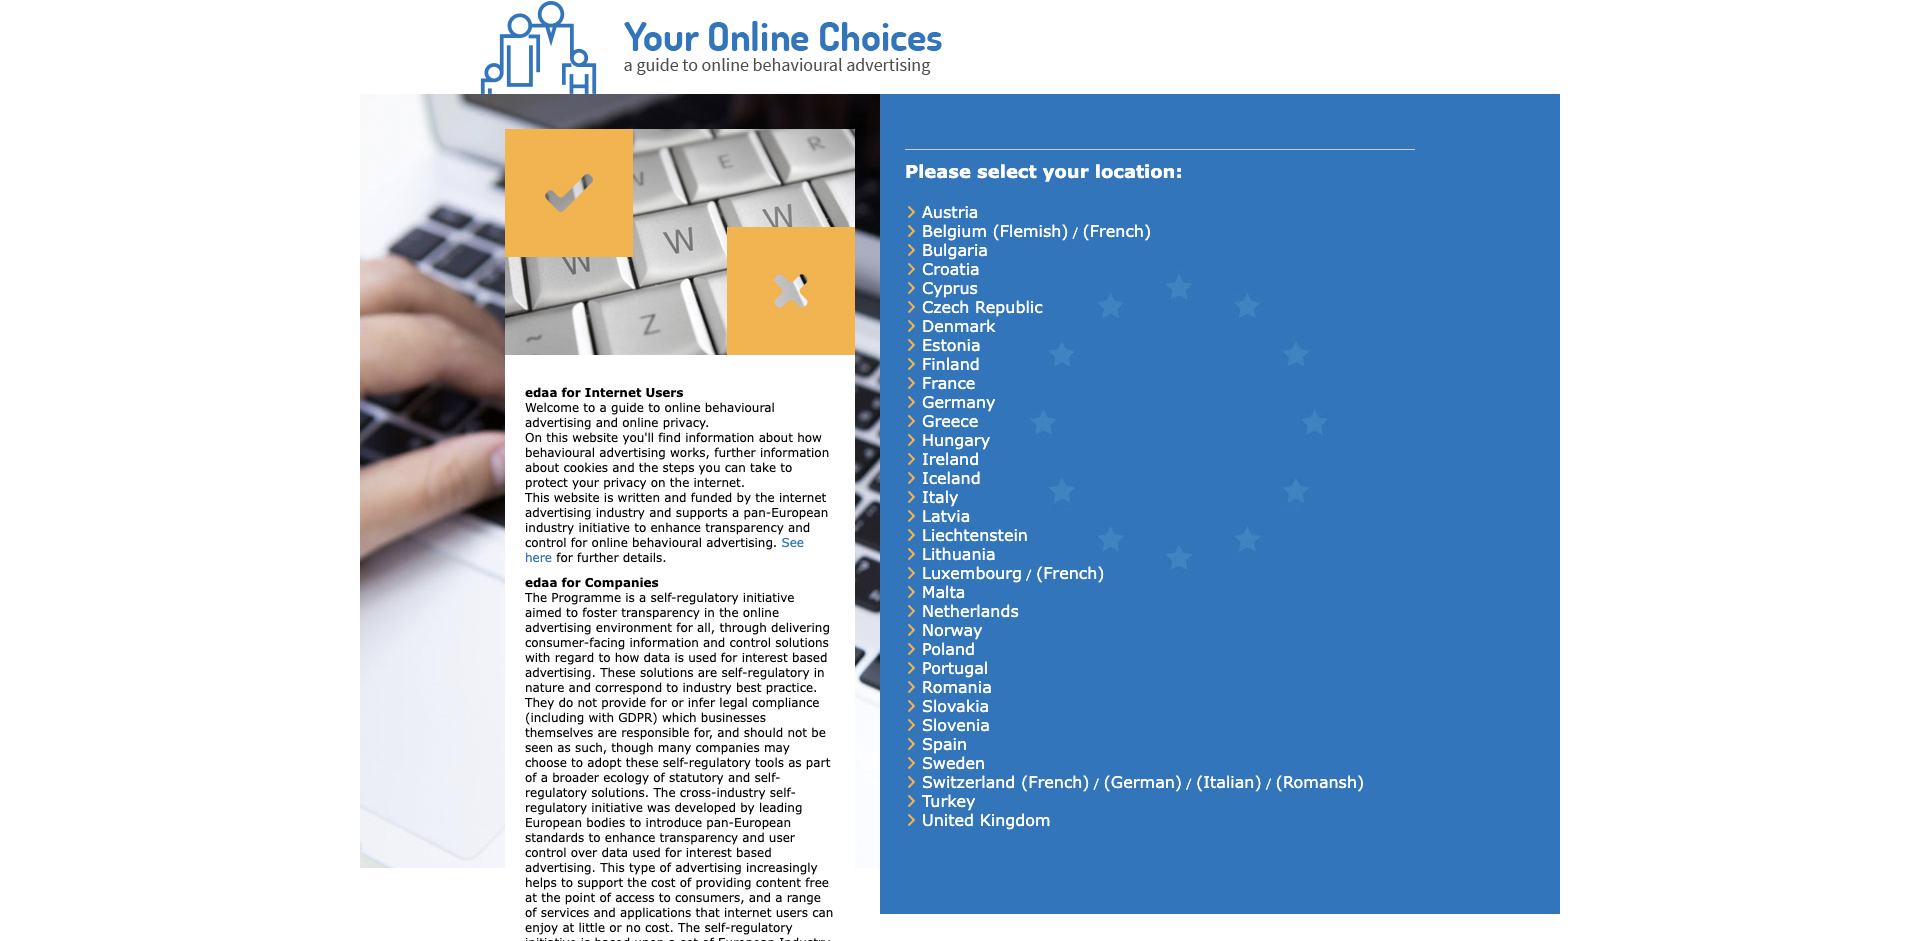link: (480, 0, 943, 94), (525, 535, 804, 565), (922, 772, 1090, 792), (922, 221, 1069, 240), (922, 810, 1051, 830), (922, 297, 1042, 316), (922, 524, 1027, 544), (922, 562, 1022, 582), (922, 602, 1019, 620), (1276, 772, 1364, 792), (1103, 772, 1182, 792), (922, 316, 996, 334), (922, 392, 996, 410), (922, 544, 996, 562), (1082, 221, 1151, 240), (1036, 562, 1104, 582), (922, 696, 989, 716), (922, 658, 988, 678), (922, 678, 992, 696), (1196, 772, 1261, 792), (922, 430, 991, 448), (922, 716, 989, 734), (922, 240, 988, 259), (922, 620, 982, 640), (922, 334, 981, 354), (922, 754, 984, 772), (922, 259, 980, 278), (922, 448, 980, 468), (922, 410, 978, 430), (922, 468, 981, 486), (922, 354, 980, 372), (922, 372, 976, 392), (922, 202, 978, 221), (922, 278, 978, 297), (922, 792, 976, 810), (922, 640, 975, 658), (922, 734, 967, 754), (922, 506, 970, 524), (922, 582, 965, 602), (922, 486, 959, 506)
